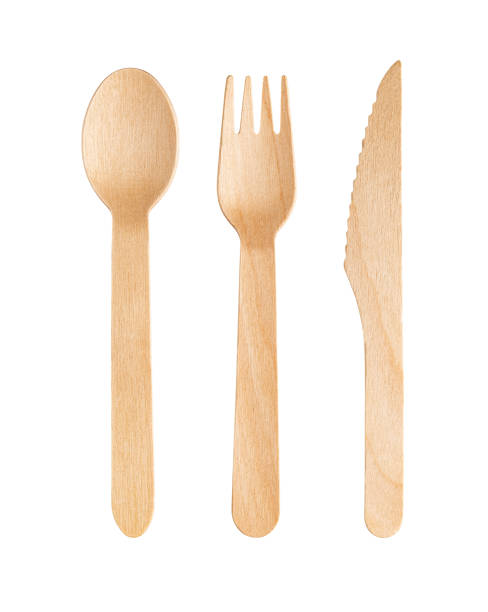Wooden Utensils: (66, 36, 410, 555)
